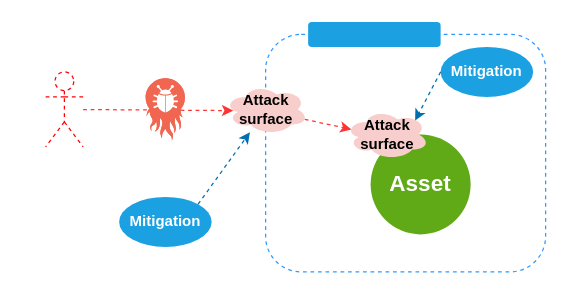
Image size: 568x294. Some labels were removed from this diagram. Each missing label, with the centre of its shape:
"Security control" goes at point 374,33.
"Threat" goes at point 164,109.
"Threat actor" goes at point 63,109.
